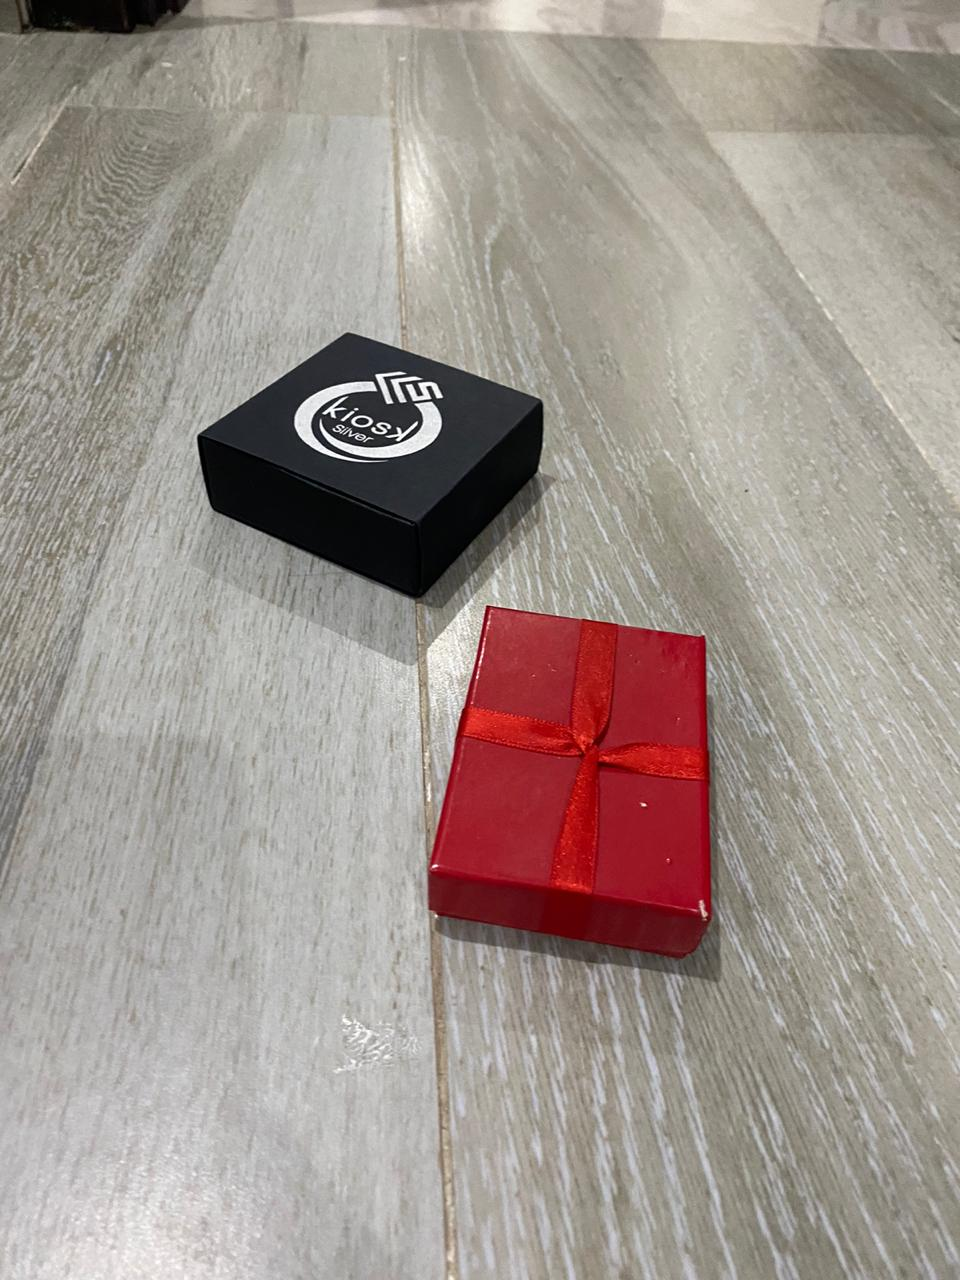Black Box: (421, 601, 719, 967)
Red Box: (197, 331, 549, 600)
